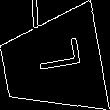L_W: (24, 43, 81, 83)
